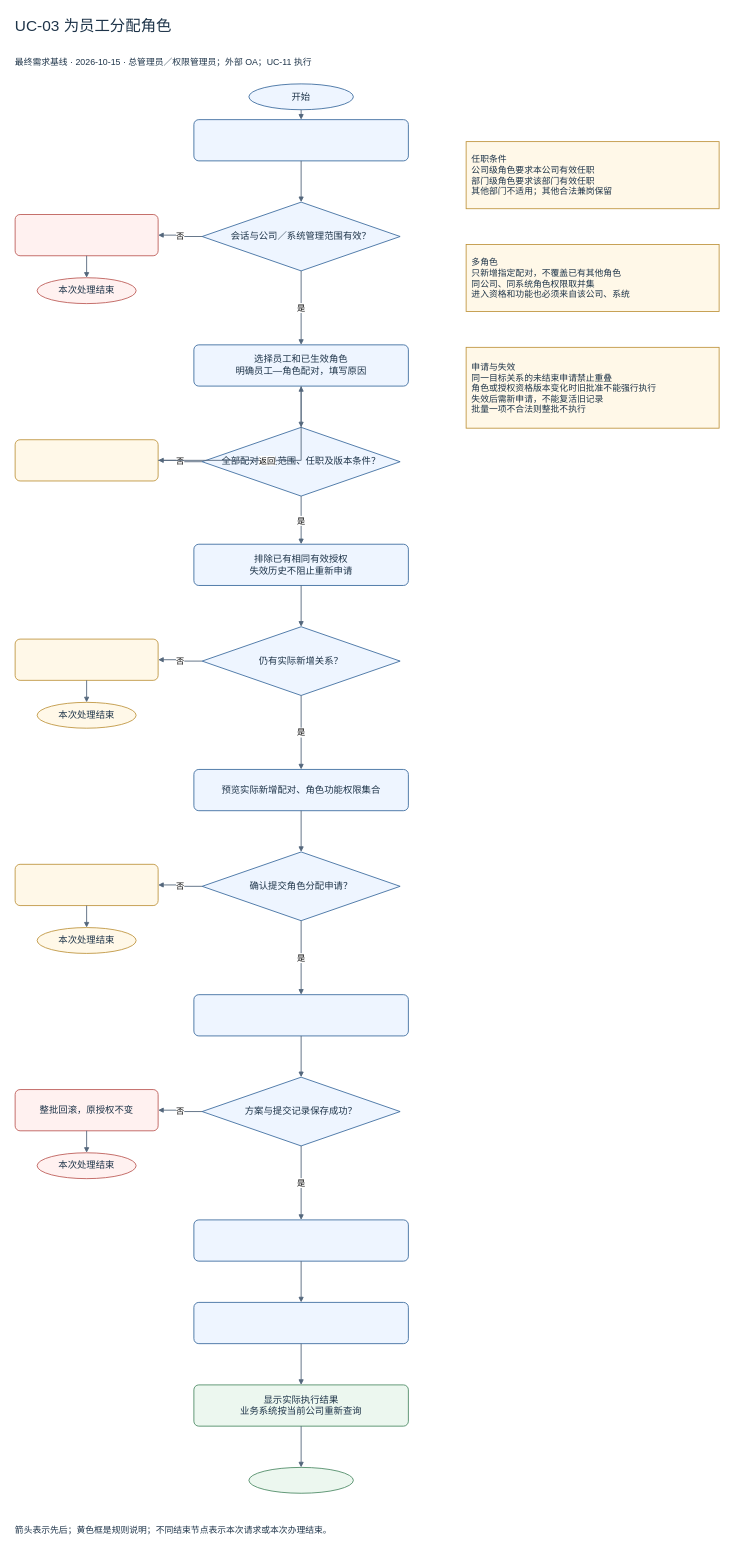
Some shapes in this 745 by 1552 pixel diagram are drawn without their labels. The centre of each missing label's shape, as x and y in pixels:
"OA 返回最终结果，转 UC-11 批准后复核并整体执行合法新增" belongs at (x=301, y=1323).
"关联 OA，显示待审批 提交本身不新增授权" belongs at (x=301, y=1240).
"取消本次未提交修改" belongs at (x=86, y=885).
"复核并固定新增清单、角色版本 原资格来源、关系版本与原因" belongs at (x=301, y=1015).
"完成本次处理" belongs at (x=301, y=1480).
"拒绝本次分配申请" belongs at (x=86, y=235).
"整批拒绝，提示问题配对 重新读取并修改" belongs at (x=86, y=460).
"返回无变化，不提交 OA" belongs at (x=86, y=659).
"选择目标公司并进入员工授权" belongs at (x=301, y=140).
